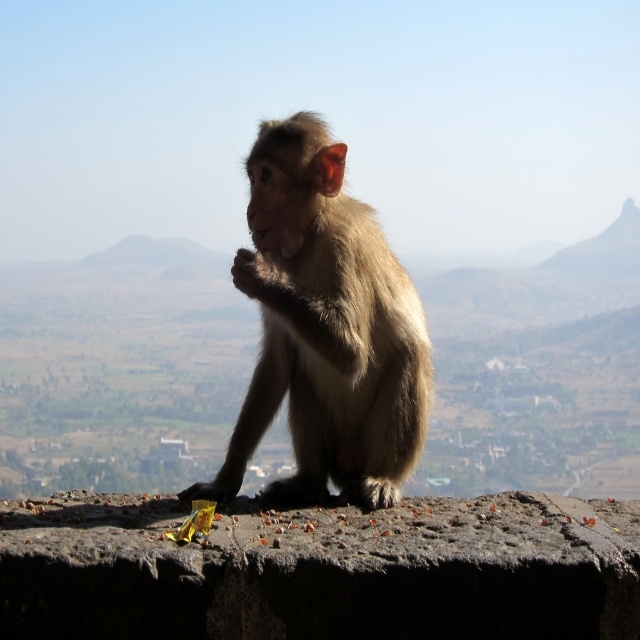Monkey: (189, 113, 434, 502)
